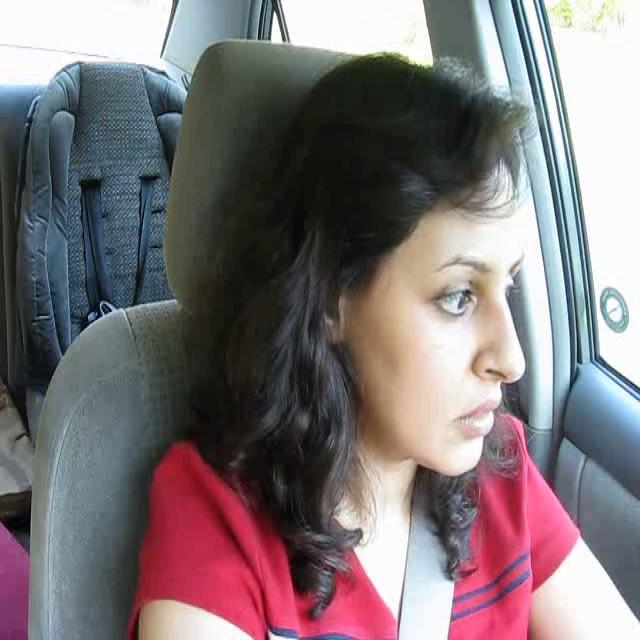close: (452, 390, 502, 440)
